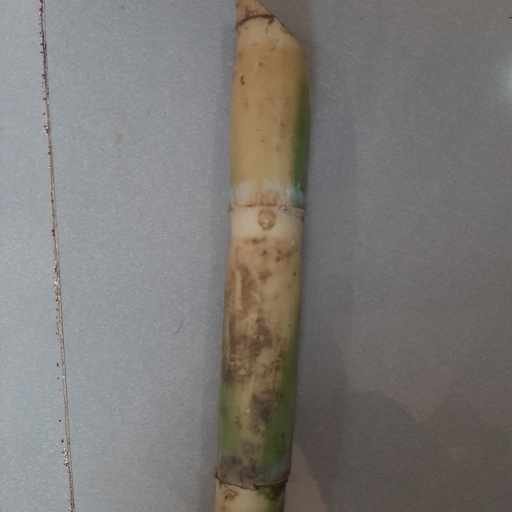Bud: (257, 208, 276, 229)
